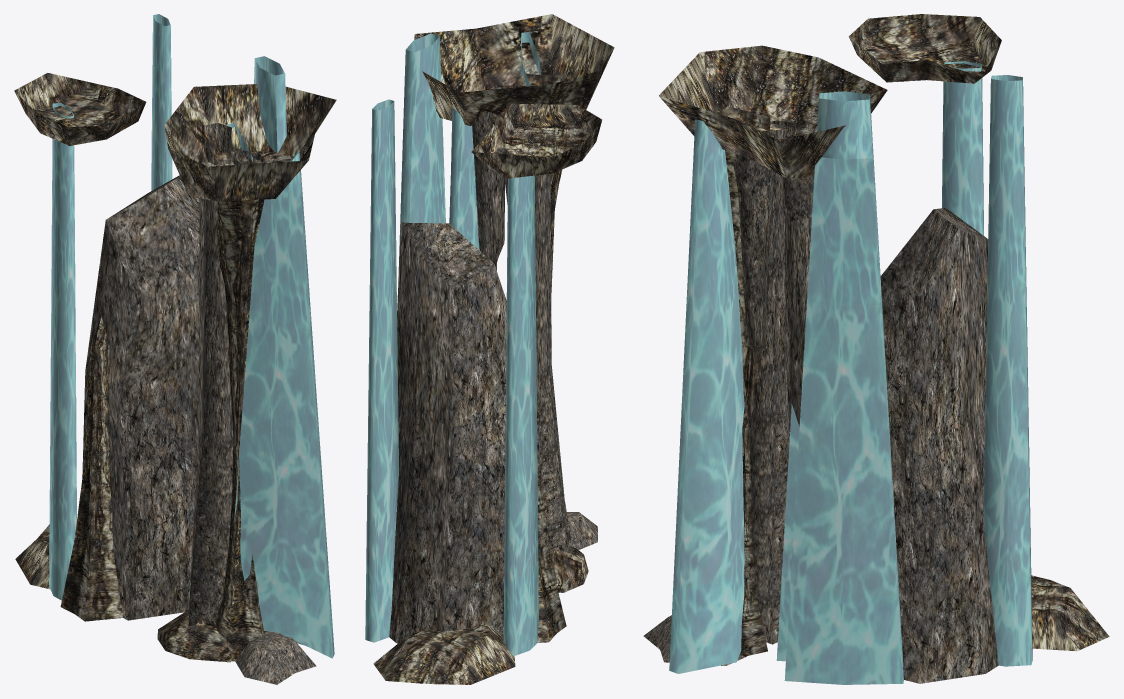
Rendered from pir_m_prp_cav_waterfall_large.fbx.
3 views of the same model, side by side, from view 1: azimuth 30°, elevation 25°; view 2: azimuth 150°, elevation 25°; view 3: azimuth 270°, elevation 25° (orthographic). The views are drawn at different scales.
Visible parts, largest first — view 1: waterfall, pCube2, pCylinder118, pCube42, pCylinder119, pCube67, pCylinder116, pCylinder117, pCube69, pCube66, pCube70, pCylinder75; view 2: pCube2, waterfall, pCube42, pCube67, pCylinder118, pCube70, pCylinder75, pCylinder119, pCube66, pCylinder116, pCube69; view 3: waterfall, pCube2, pCube42, pCylinder118, pCube67, pCylinder72, pCylinder71, pCube70, pCylinder116, pCylinder117, pCube69.
Part boxes in pixels (<box>): waterfall: <box>49,14,334,658</box>; pCube2: <box>82,175,199,620</box>; pCylinder118: <box>188,198,233,626</box>; pCube42: <box>164,84,336,201</box>; pCylinder119: <box>60,315,122,621</box>; pCube67: <box>14,73,146,145</box>; pCylinder116: <box>217,161,264,445</box>; pCylinder117: <box>215,440,266,661</box>; pCube69: <box>235,631,316,684</box>; pCube66: <box>157,610,231,662</box>; pCube70: <box>15,524,49,589</box>; pCylinder75: <box>204,123,231,165</box>; pCube2: <box>389,222,506,643</box>; waterfall: <box>365,31,541,656</box>; pCube42: <box>414,14,614,125</box>; pCube67: <box>471,103,601,178</box>; pCylinder118: <box>534,174,569,553</box>; pCube70: <box>373,624,515,684</box>; pCylinder75: <box>472,111,505,265</box>; pCylinder119: <box>503,428,566,642</box>; pCube66: <box>550,542,588,592</box>; pCylinder116: <box>508,74,567,292</box>; pCube69: <box>566,512,597,549</box>; waterfall: <box>669,61,1032,684</box>; pCube2: <box>880,208,998,683</box>; pCube42: <box>659,45,887,178</box>; pCylinder118: <box>749,121,795,644</box>; pCube67: <box>848,14,1001,83</box>; pCylinder72: <box>781,176,814,434</box>; pCylinder71: <box>734,129,776,353</box>; pCube70: <box>1031,575,1109,651</box>; pCylinder116: <box>717,106,773,427</box>; pCylinder117: <box>740,406,767,656</box>; pCube69: <box>643,615,746,665</box>.
Bounding box in the file's own units: 4773 × 10229 × 7387.
3 materials, 3 textured.
